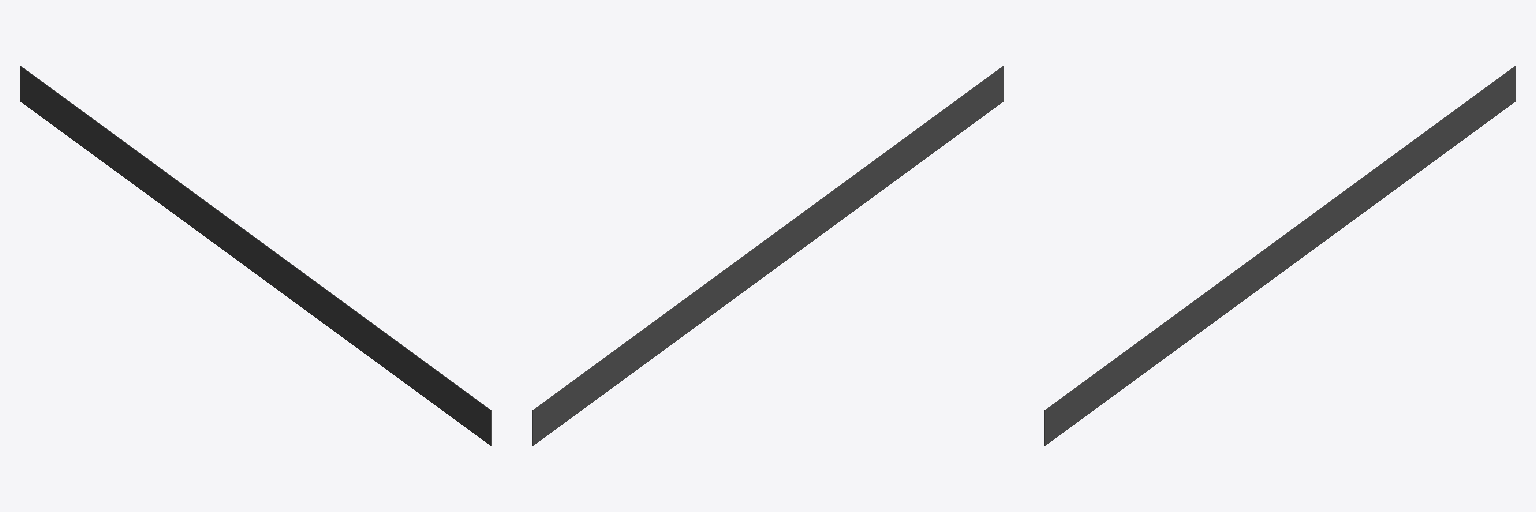
URDF robot description (counter_back#3):
<?xml version="1.0"?>
<robot name="counter_back#3">
    <material name="color">
        <color rgba="0.4 0.4 0.4 1"/>
    </material>
    <link name="base">
        <collision name="box_collision">
          <geometry>
            <box size="0.001 1.2 0.05"/>
          </geometry>
        </collision>
        <visual name="box_visual">
    			<origin xyz="0 0 0" rpy="0 0 0"/>
          <material name="color"/>

          <geometry>
            <box size="0.001 1.2 0.05"/>
          </geometry>
        </visual>
        <inertial>
			<mass value="0.3"/>
			<inertia ixx="0.6" ixy="0.0" ixz="0.0" iyy="0.5" iyz="-0.0" izz="0.08"/>
		</inertial>
      </link>
</robot>

--- Render facts (derived) ---
3 views of the same robot in one strip: view 1: azimuth 30°, elevation 25°; view 2: azimuth 150°, elevation 25°; view 3: azimuth 330°, elevation 25° (orthographic).
Robot: counter_back#3 — 1 links, 0 joints (none); root link base; default pose: every joint at zero.
Links seen in each view (by area): view 1: base; view 2: base; view 3: base.
Link boxes in pixels (left/top/right/bottom): base: left=20, top=66, right=491, bottom=445; base: left=532, top=66, right=1003, bottom=445; base: left=1044, top=66, right=1515, bottom=445.
Bounding box of the posed robot: 0.001 × 1.2 × 0.05 m (x, y, z).
Geometry: primitives only (box / cylinder / sphere), no mesh files.